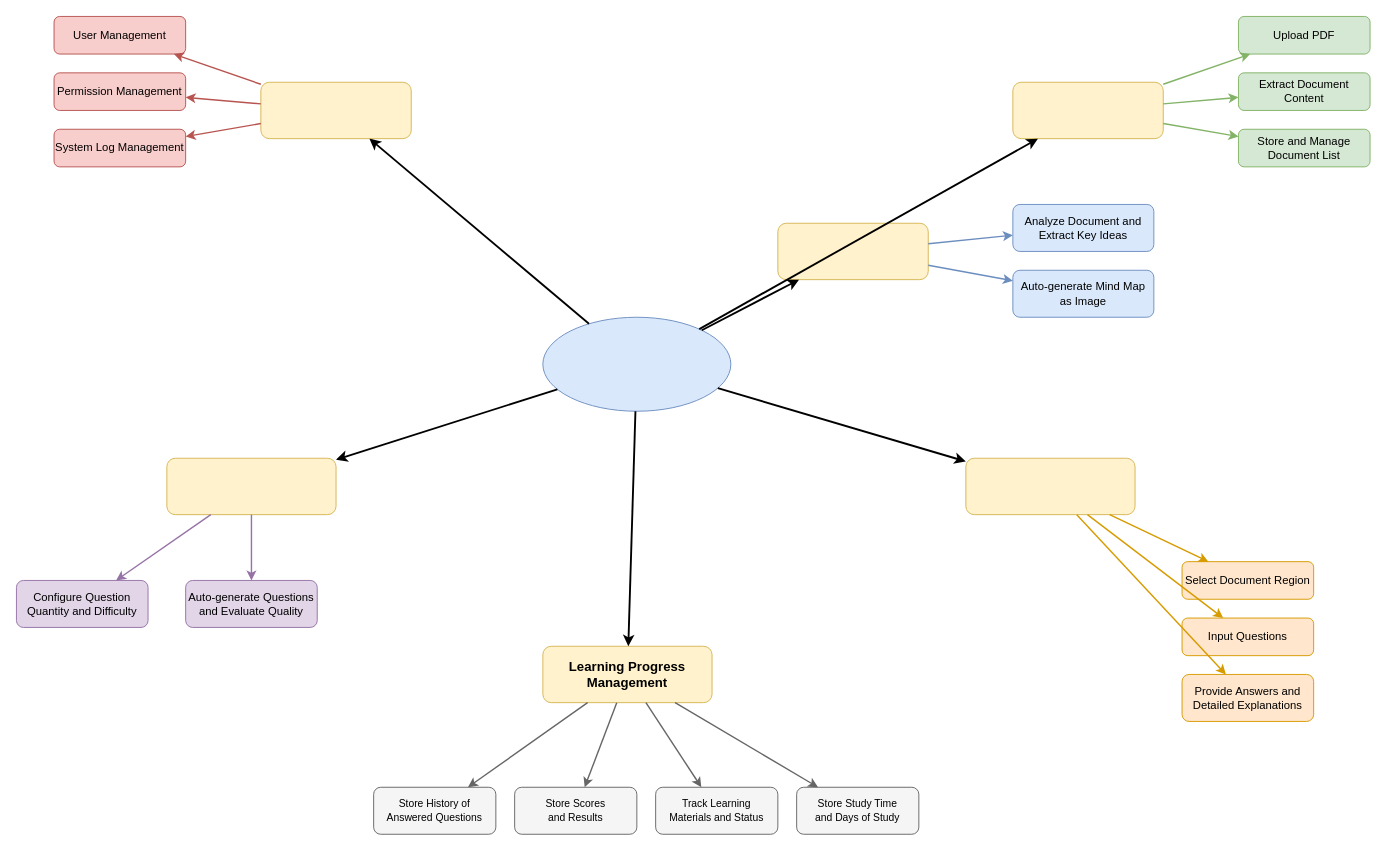
This 1387x851 diagram has some shape labels left out. The box of each missing label's shape, as (x1, y1, x2, y2) in pixels:
Document Management: (1012, 81, 1163, 139)
Document-based Question Answering: (965, 457, 1135, 515)
Learning System Management: (542, 316, 731, 411)
Mind Map Creation: (777, 222, 928, 280)
Question Generation from Documents: (166, 457, 336, 515)
System Administration: (260, 81, 411, 139)
